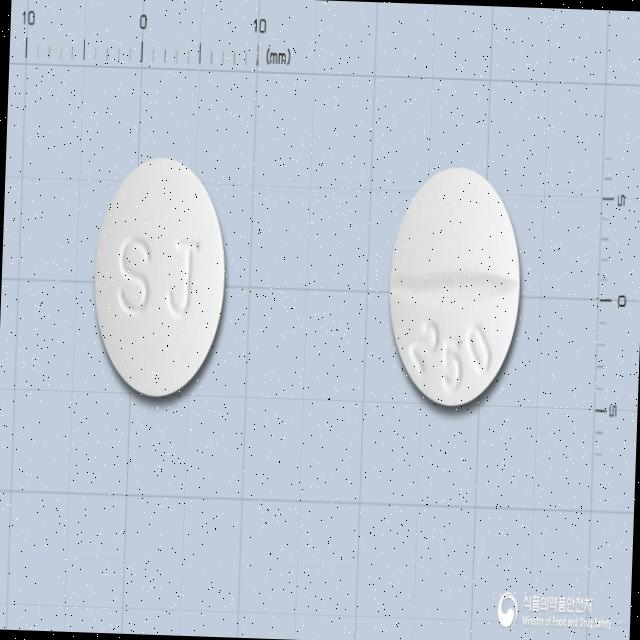Quinos Tab: (90, 154, 230, 402), (386, 163, 526, 409)
